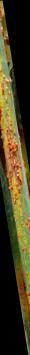Sugarcane: (0, 71, 26, 258)
